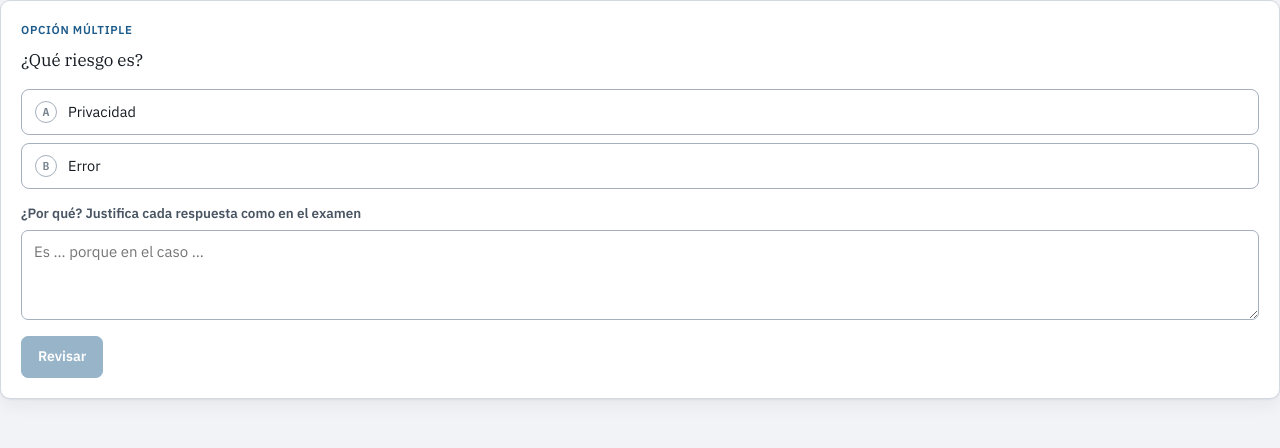
Test: justificar › sin escribir nada también se puede revisar, pero avisa
Click the text "Error". click: (84, 166)
box: [68,155,100,176]
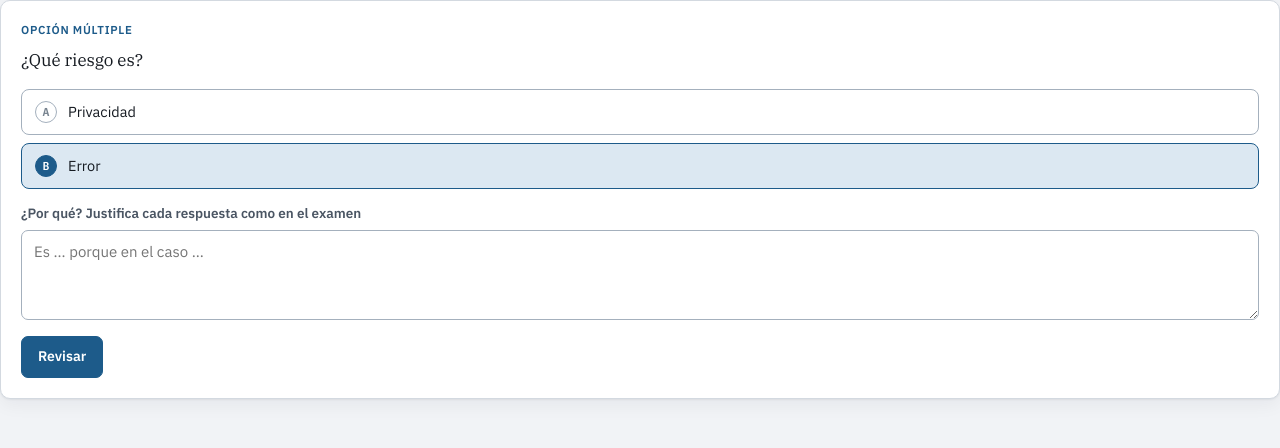
Click the button "Revisar". click: (62, 357)
box: [21,336,103,378]
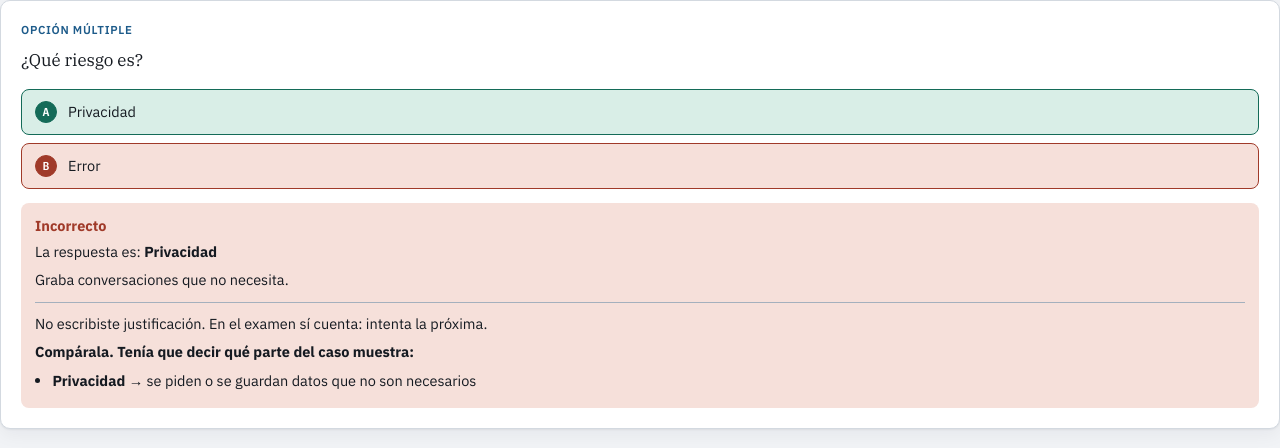
expect the text "No escribiste justificación" is shown: met, box [35,314,487,333]
